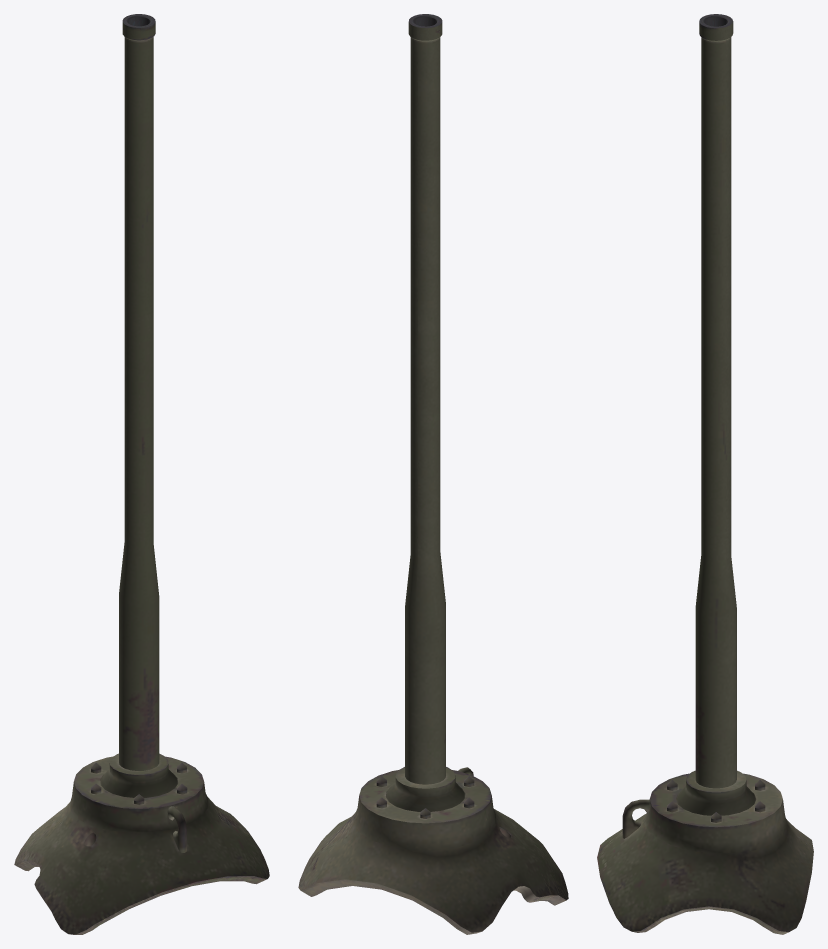
File: Gun_01.glb
The picture shows the model from 3 angles, left to right: view 1: azimuth 30°, elevation 25°; view 2: azimuth 150°, elevation 25°; view 3: azimuth 270°, elevation 25°; orthographic projection. The views are drawn at different scales.
Visible parts, largest first — view 1: set_0_group_0; view 2: set_0_group_0; view 3: set_0_group_0.
Part boxes in pixels (x1=…): set_0_group_0: x1=14, y1=14, x2=269, y2=934; set_0_group_0: x1=298, y1=14, x2=568, y2=934; set_0_group_0: x1=597, y1=14, x2=813, y2=934.
Size of the model in its own units: 0.7906 by 3.22 by 0.7143.
Materials: 1 (1 with a texture image).
